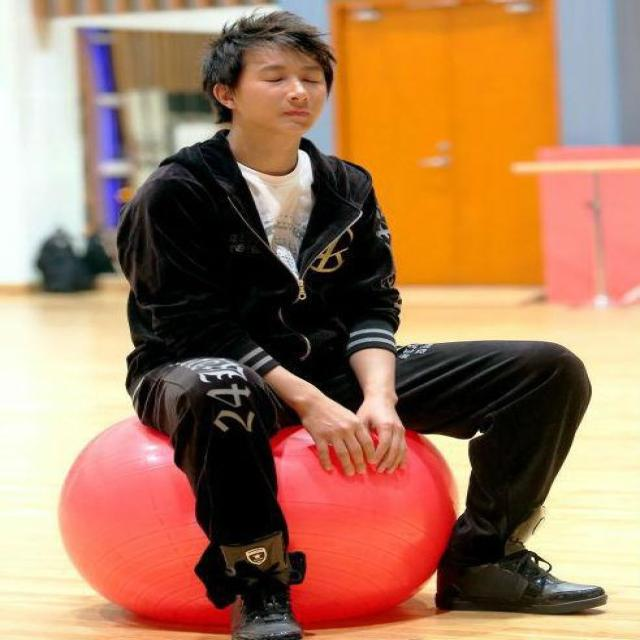obstacle: (137, 0, 520, 640)
